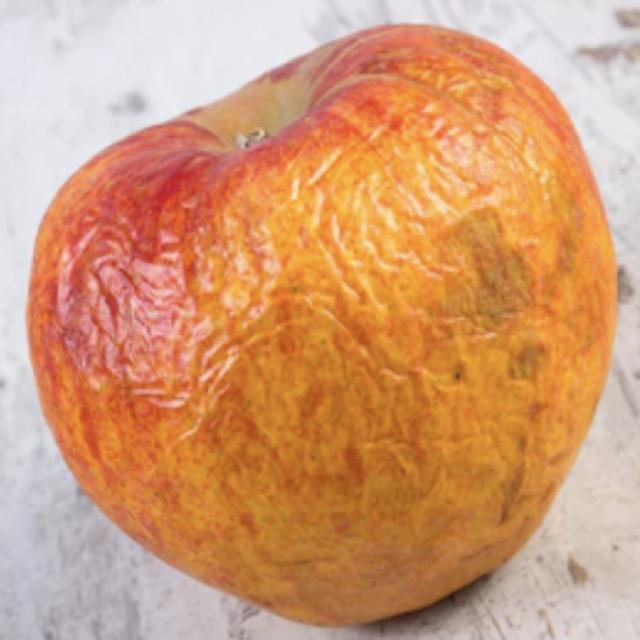Rotten: (80, 37, 605, 615)
